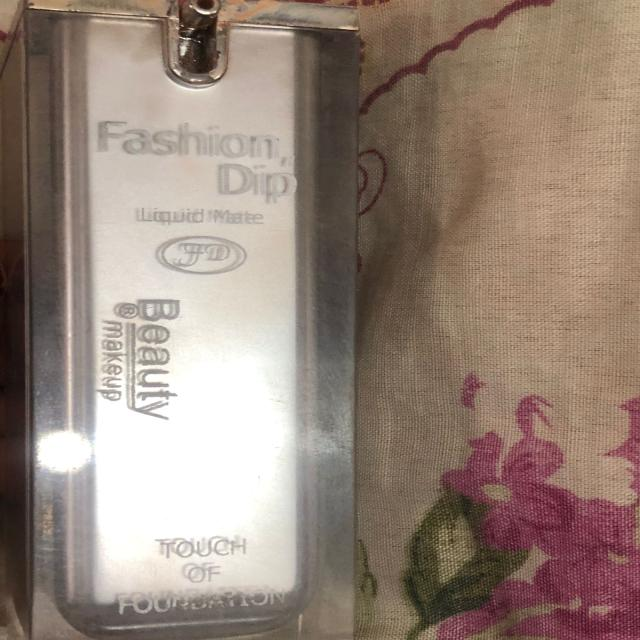perfume: (0, 0, 385, 640)
